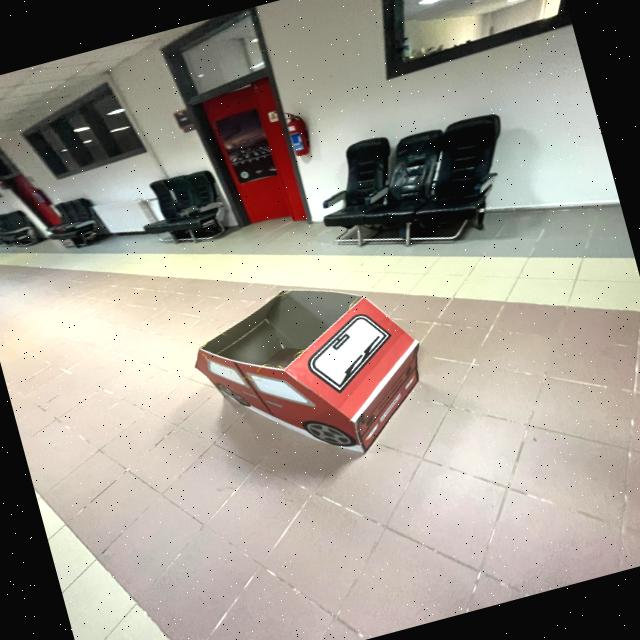red_car: (156, 246, 457, 506)
